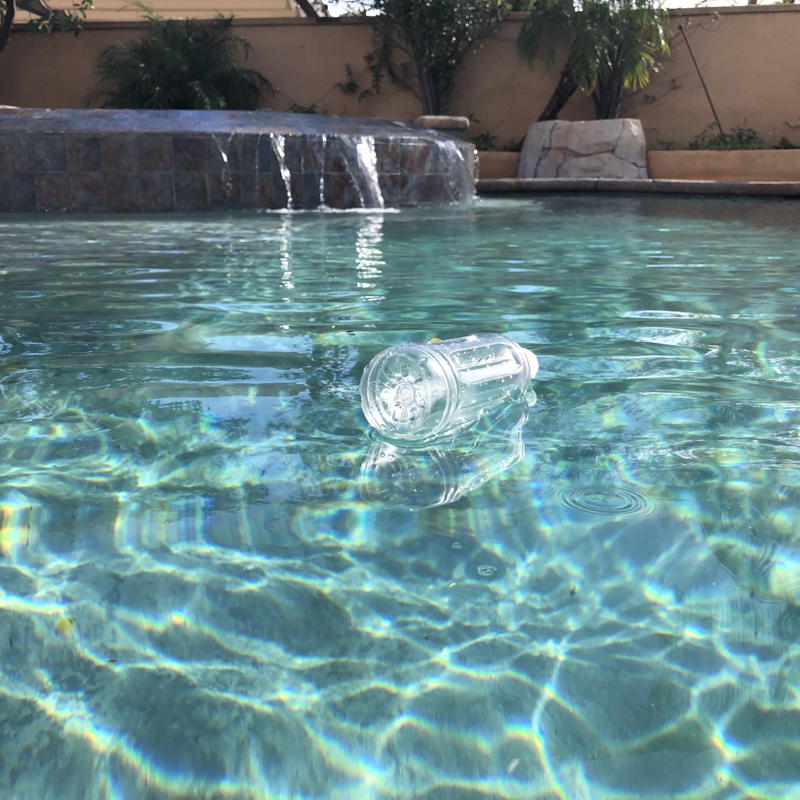Plastic Bottle: (355, 332, 541, 444)
